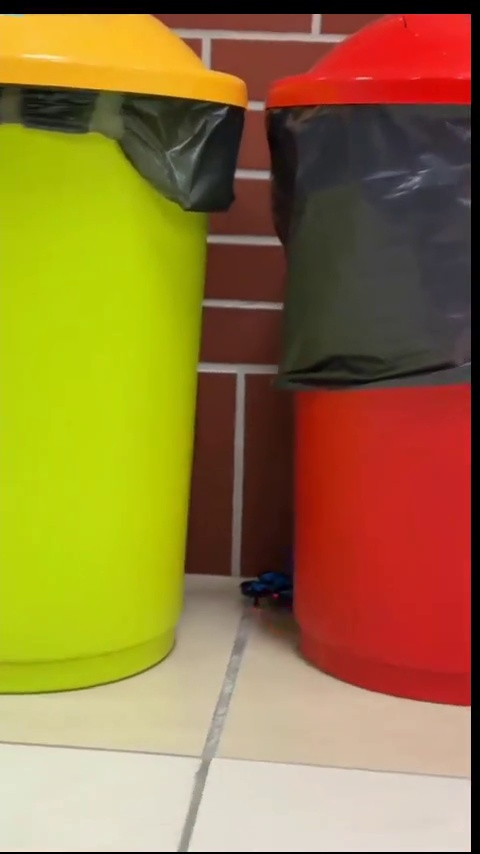drone: (235, 567, 296, 616)
